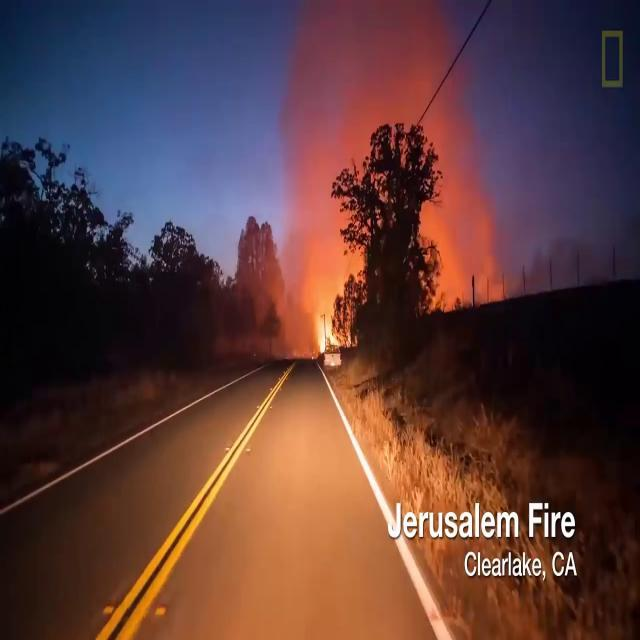Fire: (314, 314, 346, 352)
